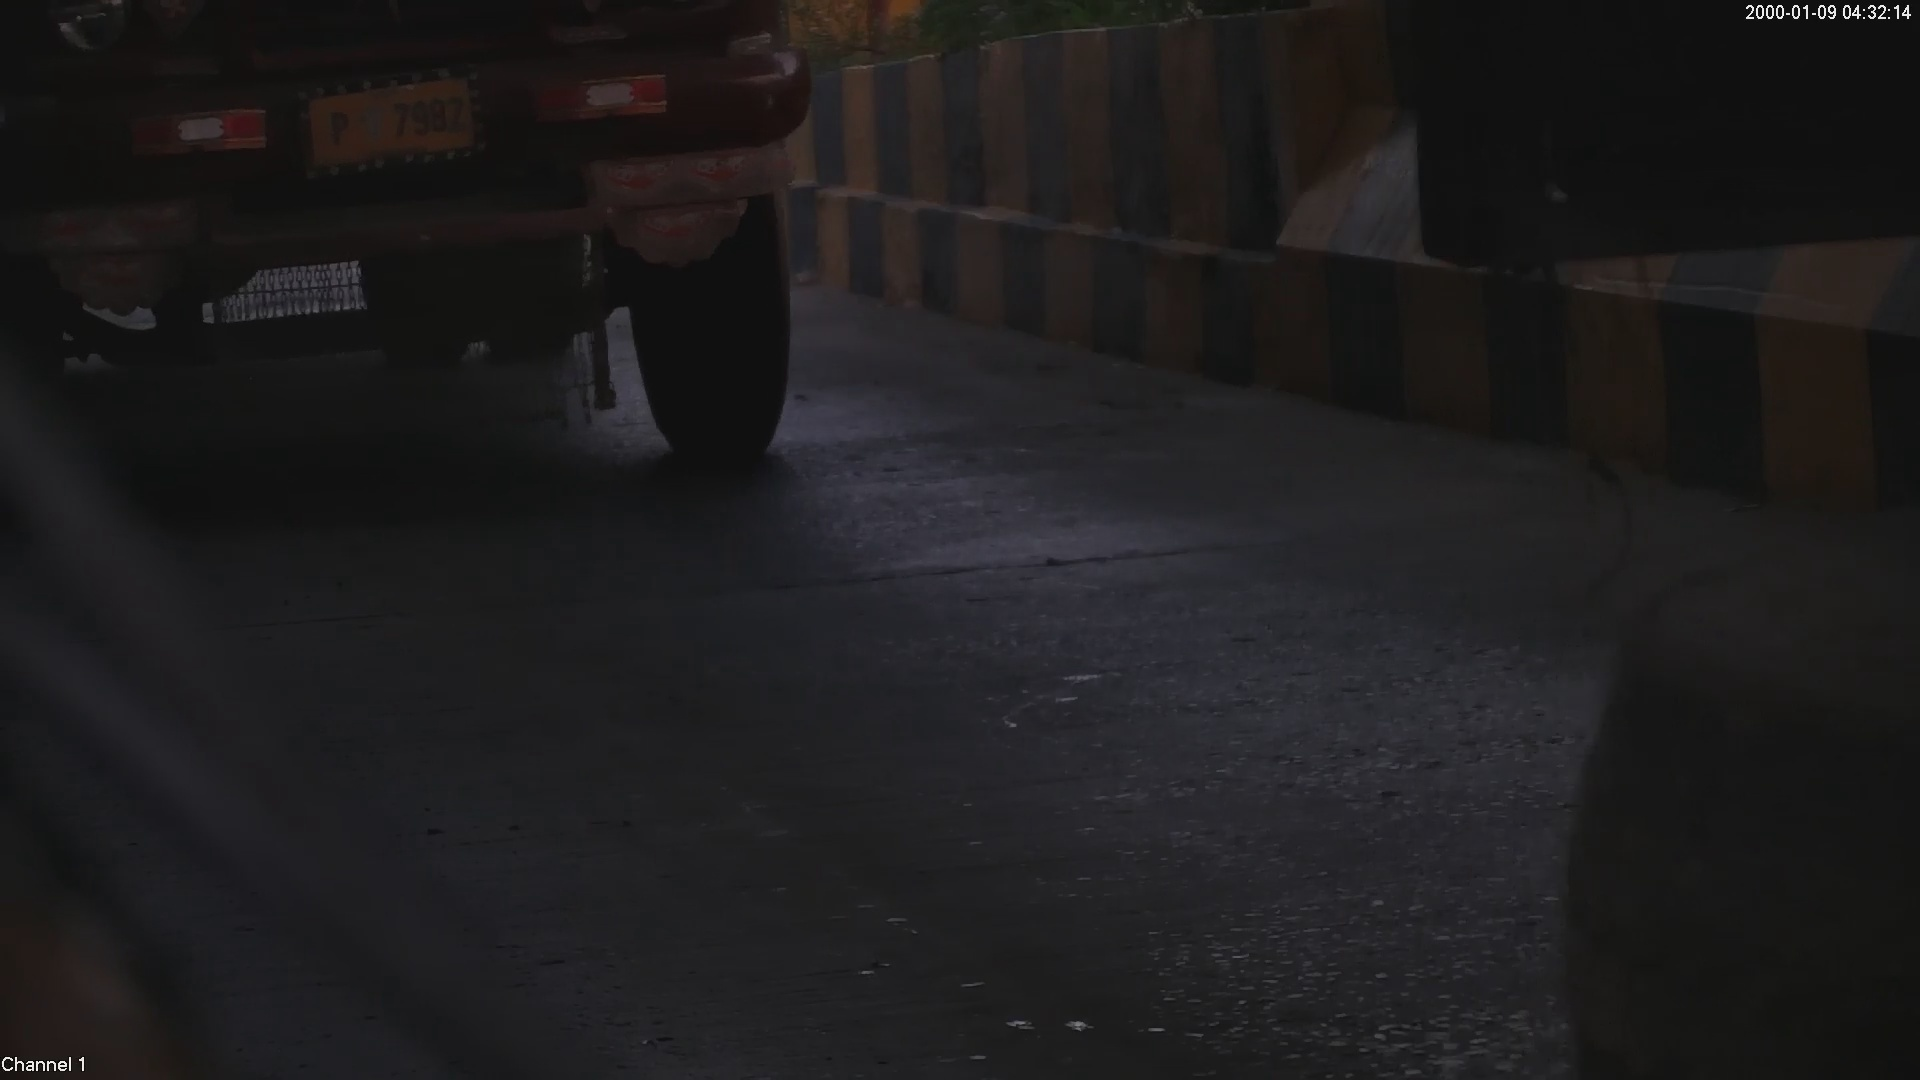Number_Plate: (300, 70, 480, 168)
